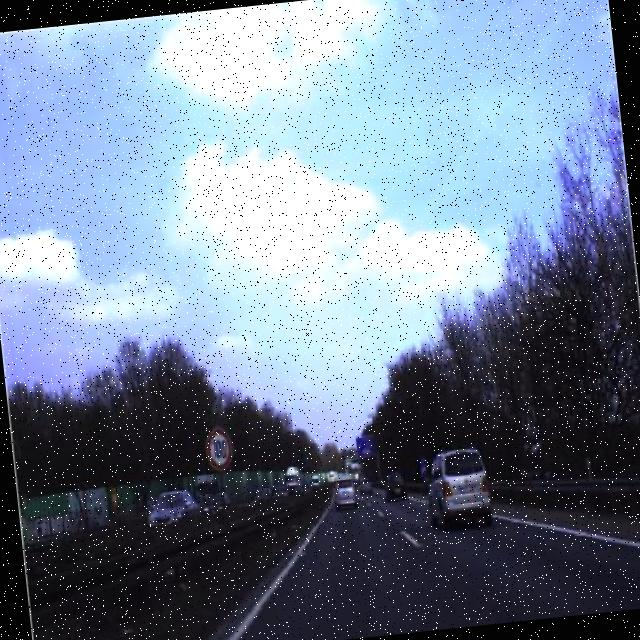Ograniczenie predkosci do 100: (203, 422, 235, 474)
